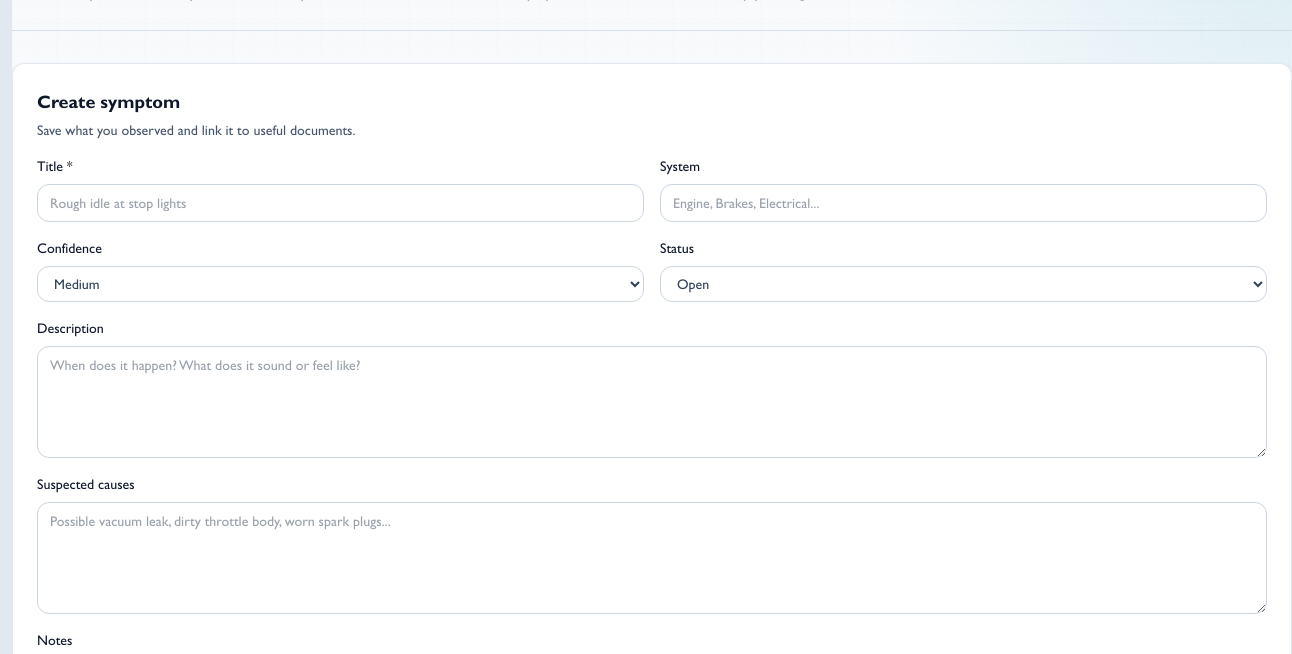
Test: creating a symptom selects it, links a picked document, and refreshes the page
The image size is (1292, 654).
Type "Symptom 900" into the field labelled "Title *" at (340, 203), box [37,184,644,222]
(page scrolled)
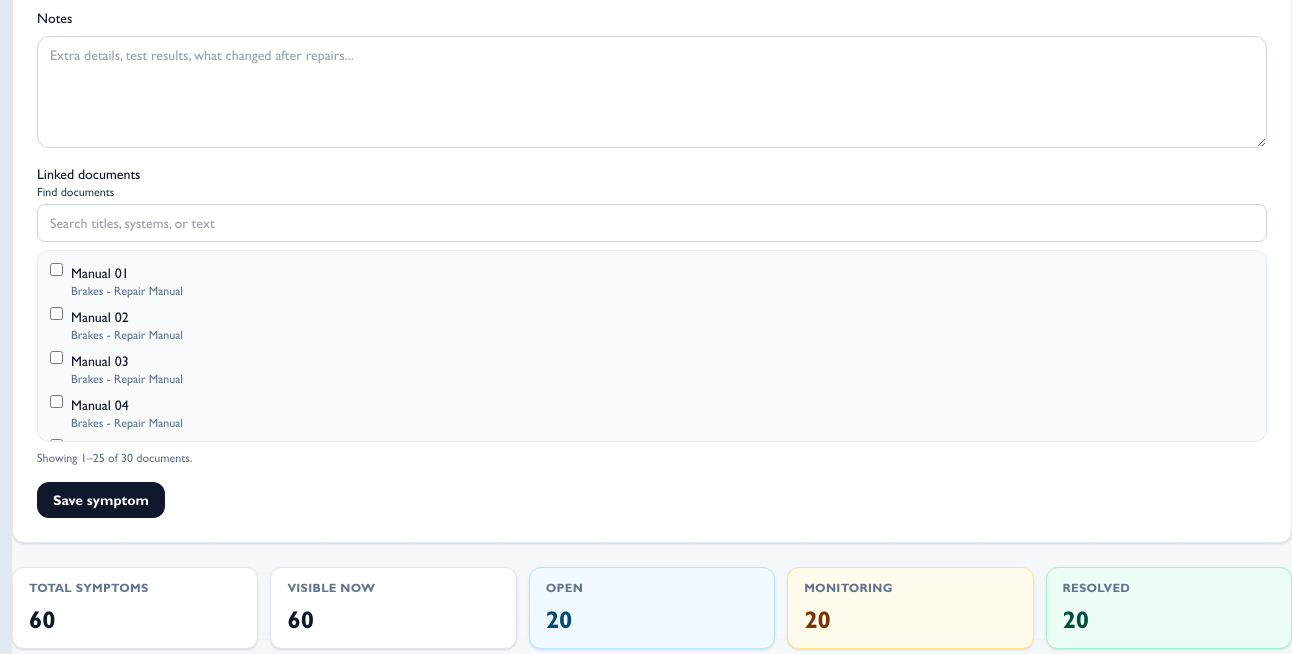
Click the checkbox labelled "Manual 02 Brakes - Repair Manual" at (56, 313), box [50,307,63,320]
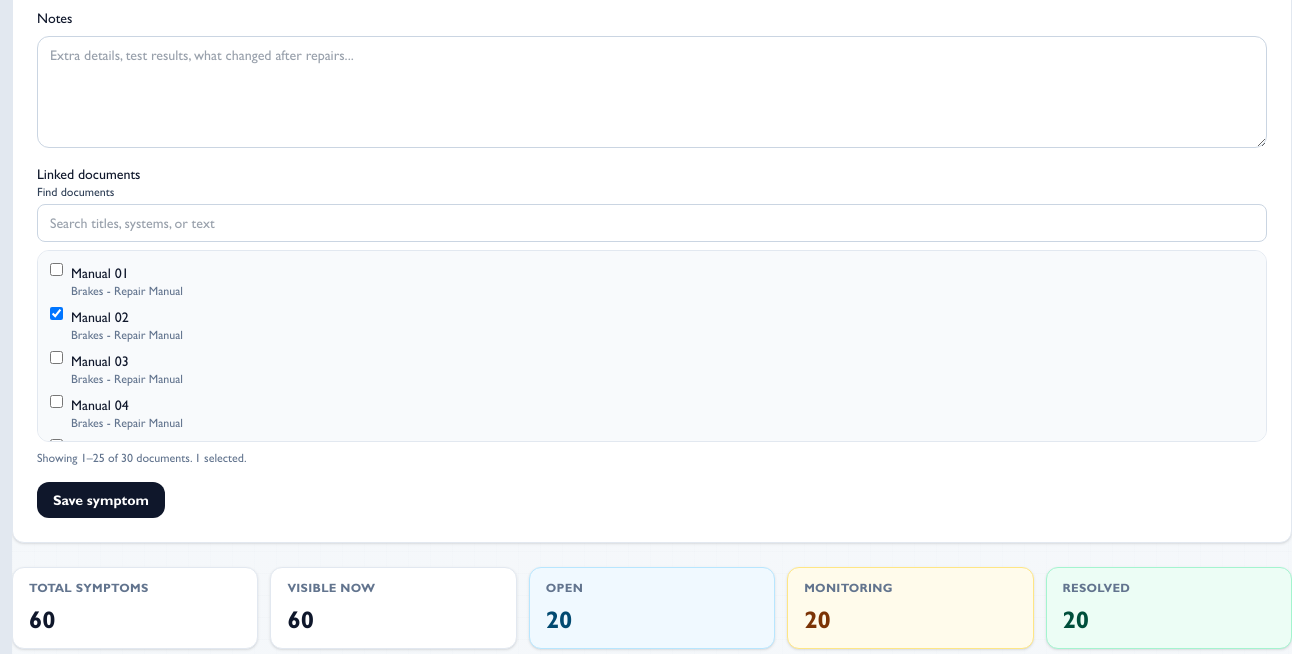
Click the button "Save symptom" at (101, 500), box [37,482,165,518]
(page scrolled)
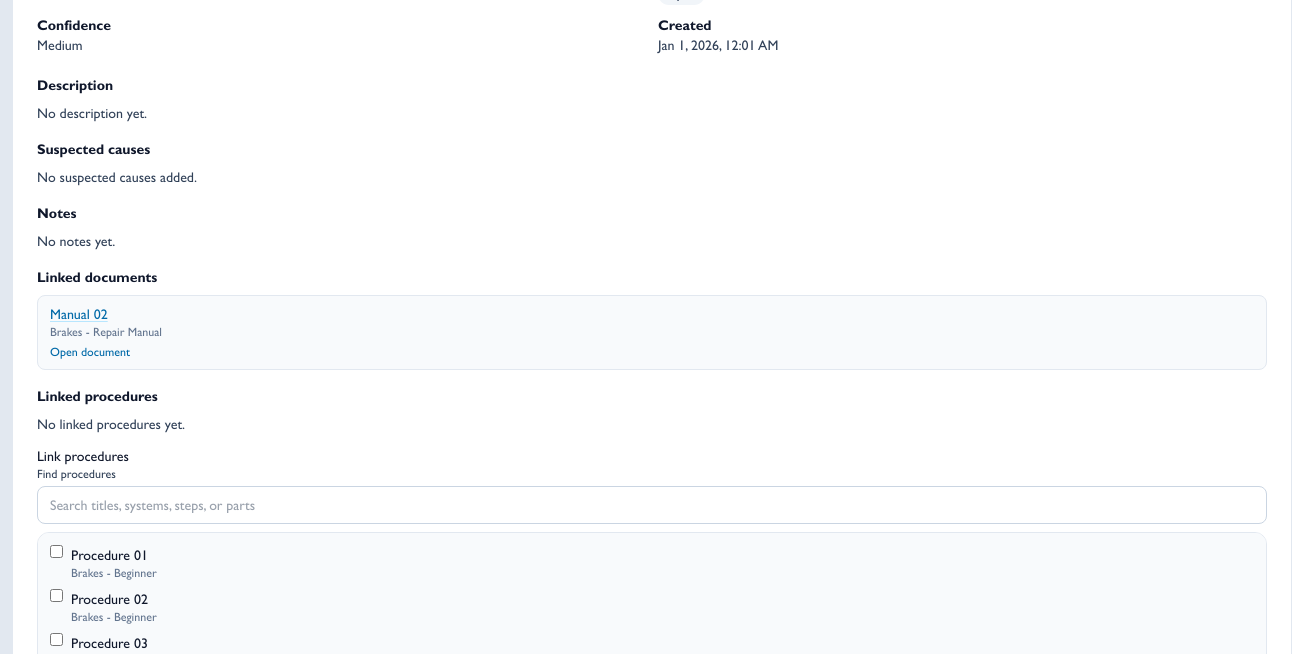
Result: the link with aria-label "Open document Manual 02" is shown at [50,306,108,322]
